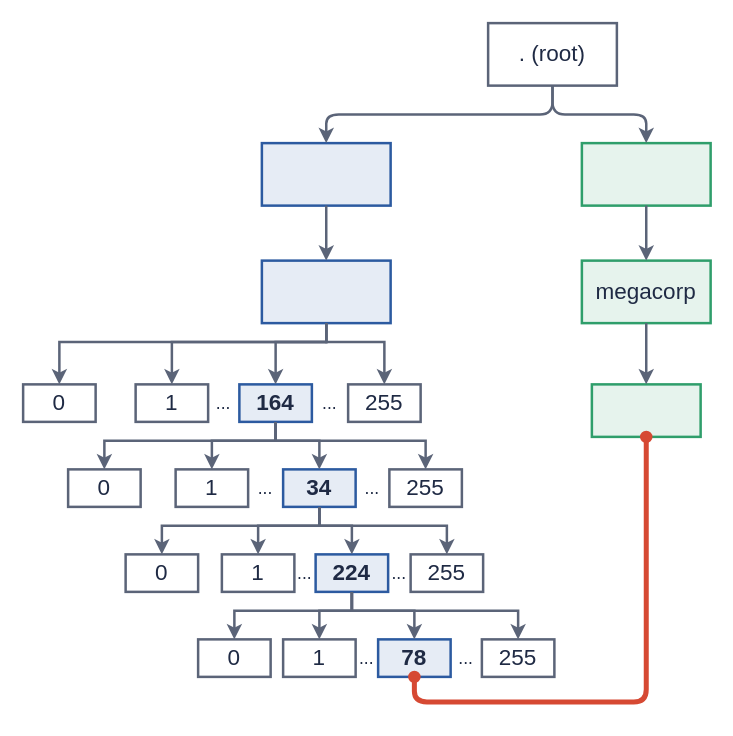
Image size: 733x736. Some labels were removed from this diagram. The shapes that lost their labels are listed below. From the top down, each one's centre as x and y in pixels, then its label:
At pixel 325 173: "arpa".
At pixel 645 173: "com".
At pixel 325 291: "in-addr".
At pixel 645 410: "mail".
